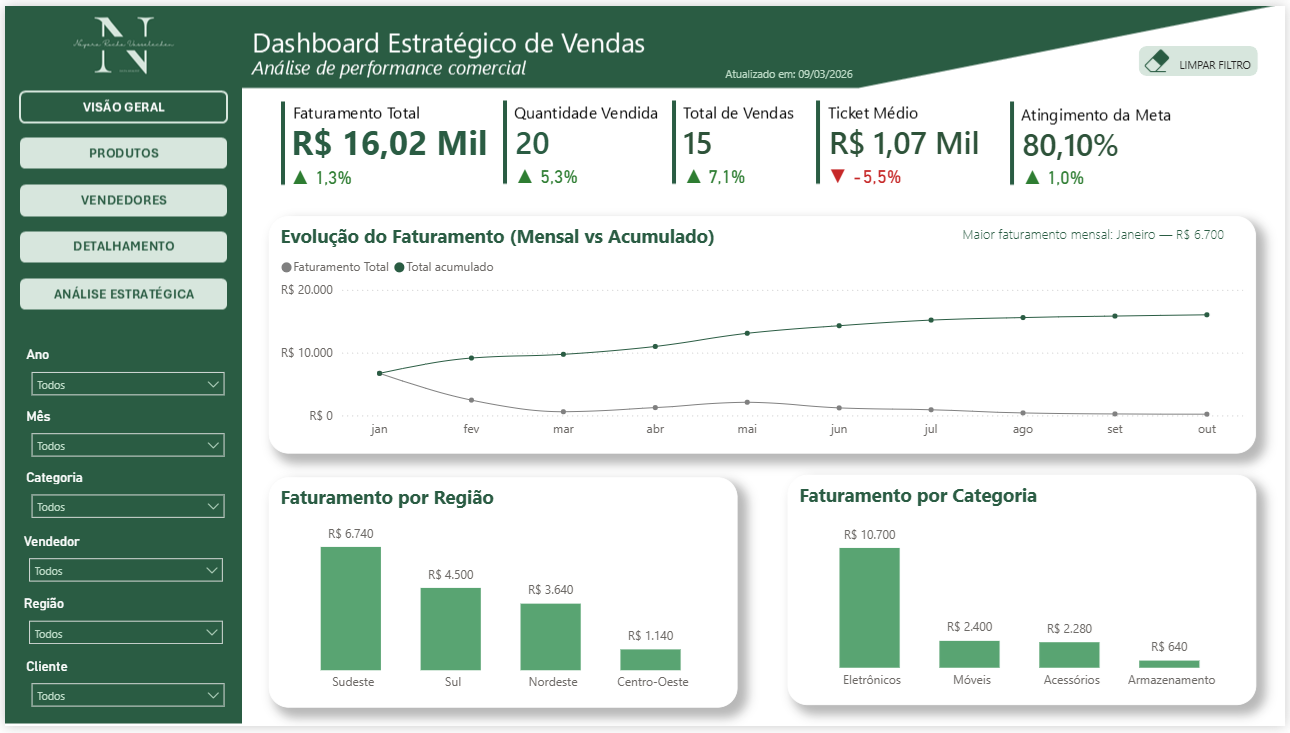

What the dashboard file says about the page in this screenshot:
{"tool":"powerbi","page":{"name":"Visão Geral","canvas":[1280,720],"ordinal":0},"visuals":[{"type":"lineChart","title":"Evolução do Faturamento (Mensal vs Acumulado)","fields":{"Category":["dim_datas.mes_abreviado"],"Y":["_medidas.1_faturamento_total","select"]},"box":[264.2,209.9,986.9,237.7],"z":0},{"type":"card","title":"Faturamento Total","fields":{"Values":["_medidas.faturamento_total"]},"box":[257.1,104.3,254.3,65.7],"z":1000},{"type":"card","title":"Qtd Vendida","fields":{"Values":["_medidas.quantidade_vendida"]},"box":[475.6,103.7,105,66.1],"z":2000},{"type":"card","title":"Total de Vendas","fields":{"Values":["_medidas.total_vendas"]},"box":[641.4,103.7,103.7,66.1],"z":3000},{"type":"card","title":"Ticket Médio","fields":{"Values":["_medidas.ticket_medio"]},"box":[776.2,103.7,246.2,66.1],"z":4000},{"type":"clusteredColumnChart","title":"Faturamento por Categoria","fields":{"Category":["dim_produtos.categoria"],"Y":["_medidas.faturamento_total"]},"box":[782.9,468.6,468.6,230],"z":5000},{"type":"slicer","title":"Ano","fields":{"Values":["dim_datas.ano"]},"box":[15.7,341.4,212.9,54.3],"z":6000},{"type":"slicer","title":"Mês","fields":{"Values":["dim_datas.mes_abreviado"]},"box":[15.7,402.9,212.9,52.9],"z":7000},{"type":"slicer","title":"Categoria","fields":{"Values":["dim_produtos.categoria"]},"box":[15.7,464.3,212.9,54.3],"z":8000},{"type":"slicer","title":"Vendedor","fields":{"Values":["dim_vendedores.nome_vendedor"]},"box":[14.3,527.1,214.3,54.3],"z":9000},{"type":"slicer","title":"Região","fields":{"Values":["dim_vendedores.regiao"]},"box":[14.3,590,214.3,54.3],"z":10000},{"type":"slicer","title":"Cliente","fields":{"Values":["dim_clientes.nome_clientes"]},"box":[15.7,652.9,212.9,54.3],"z":11000},{"type":"textbox","box":[692.9,52.9,182.9,38.6],"z":12000},{"type":"actionButton","box":[16,133,205,29],"z":14000},{"type":"actionButton","box":[15.7,180,205.7,28.6],"z":15000},{"type":"actionButton","box":[15.7,225.7,205.7,28.6],"z":16000},{"type":"clusteredColumnChart","title":"Faturamento por Região","fields":{"Y":["_medidas.faturamento_total"],"Category":["dim_vendedores.regiao"]},"box":[264.3,471.4,468.6,230],"z":18000},{"type":"card","title":"Faturamento Total","fields":{"Values":["_medidas.tendência_faturamento"]},"box":[271.4,151.4,90,41.4],"z":19000},{"type":"card","title":"Faturamento Total","fields":{"Values":["_medidas.7_tendência_qtd_vendida"]},"box":[496.3,150.3,90.7,41.5],"z":20000},{"type":"card","title":"Faturamento Total","fields":{"Values":["_medidas.7_tendência_total_vendas"]},"box":[664.8,150.3,89.4,41.5],"z":21000},{"type":"card","title":"Faturamento Total","fields":{"Values":["_medidas.7_tendência_ticket_medio"]},"box":[815.1,150.3,89.4,41.5],"z":22000},{"type":"card","fields":{"Values":["_medidas.9_insight_maior_faturamento"]},"box":[930,211.4,317.1,38.6],"z":23000},{"type":"actionButton","box":[15.7,272.9,205.7,28.6],"z":24000},{"type":"card","title":"Ticket Médio","fields":{"Values":["_medidas.1_atingimento_meta"]},"box":[990,106.3,151.6,64.8],"z":25000},{"type":"card","title":"Faturamento Total","fields":{"Values":["_medidas.3_2_tendencia_atingimento_meta"]},"box":[1004.3,151.6,89.4,41.5],"z":26000},{"type":"shape","box":[1133.6,40,119.1,30],"z":27000},{"type":"textbox","box":[1165.5,43.6,90,28.2],"z":28000},{"type":"image","box":[1130,40.9,42.7,27.3],"z":29000},{"type":"actionButton","box":[1134,40,119,32],"z":29500}]}

Visuals, with their boxes in screenshot pixels (x1, y1, x2, y2), scaled from the page's 1280x720 canvas onto the 1290x733 screenshot:
"Evolução do Faturamento (Mensal vs Acumulado)" lineChart: bbox=(266, 214, 1261, 456)
"Faturamento Total" card: bbox=(259, 106, 515, 173)
"Qtd Vendida" card: bbox=(479, 106, 585, 173)
"Total de Vendas" card: bbox=(646, 106, 751, 173)
"Ticket Médio" card: bbox=(782, 106, 1030, 173)
"Faturamento por Categoria" clusteredColumnChart: bbox=(789, 477, 1261, 711)
"Ano" slicer: bbox=(16, 348, 230, 403)
"Mês" slicer: bbox=(16, 410, 230, 464)
"Categoria" slicer: bbox=(16, 473, 230, 528)
"Vendedor" slicer: bbox=(14, 537, 230, 592)
"Região" slicer: bbox=(14, 601, 230, 656)
"Cliente" slicer: bbox=(16, 665, 230, 720)
textbox: bbox=(698, 54, 883, 93)
actionButton: bbox=(16, 135, 223, 165)
actionButton: bbox=(16, 183, 223, 212)
actionButton: bbox=(16, 230, 223, 259)
"Faturamento por Região" clusteredColumnChart: bbox=(266, 480, 739, 714)
"Faturamento Total" card: bbox=(274, 154, 364, 196)
"Faturamento Total" card: bbox=(500, 153, 592, 195)
"Faturamento Total" card: bbox=(670, 153, 760, 195)
"Faturamento Total" card: bbox=(821, 153, 912, 195)
card - _medidas.9_insight_maior_faturamento: bbox=(937, 215, 1257, 255)
actionButton: bbox=(16, 278, 223, 307)
"Ticket Médio" card: bbox=(998, 108, 1151, 174)
"Faturamento Total" card: bbox=(1012, 154, 1102, 197)
shape: bbox=(1142, 41, 1262, 71)
textbox: bbox=(1175, 44, 1265, 73)
image: bbox=(1139, 42, 1182, 69)
actionButton: bbox=(1143, 41, 1263, 73)
